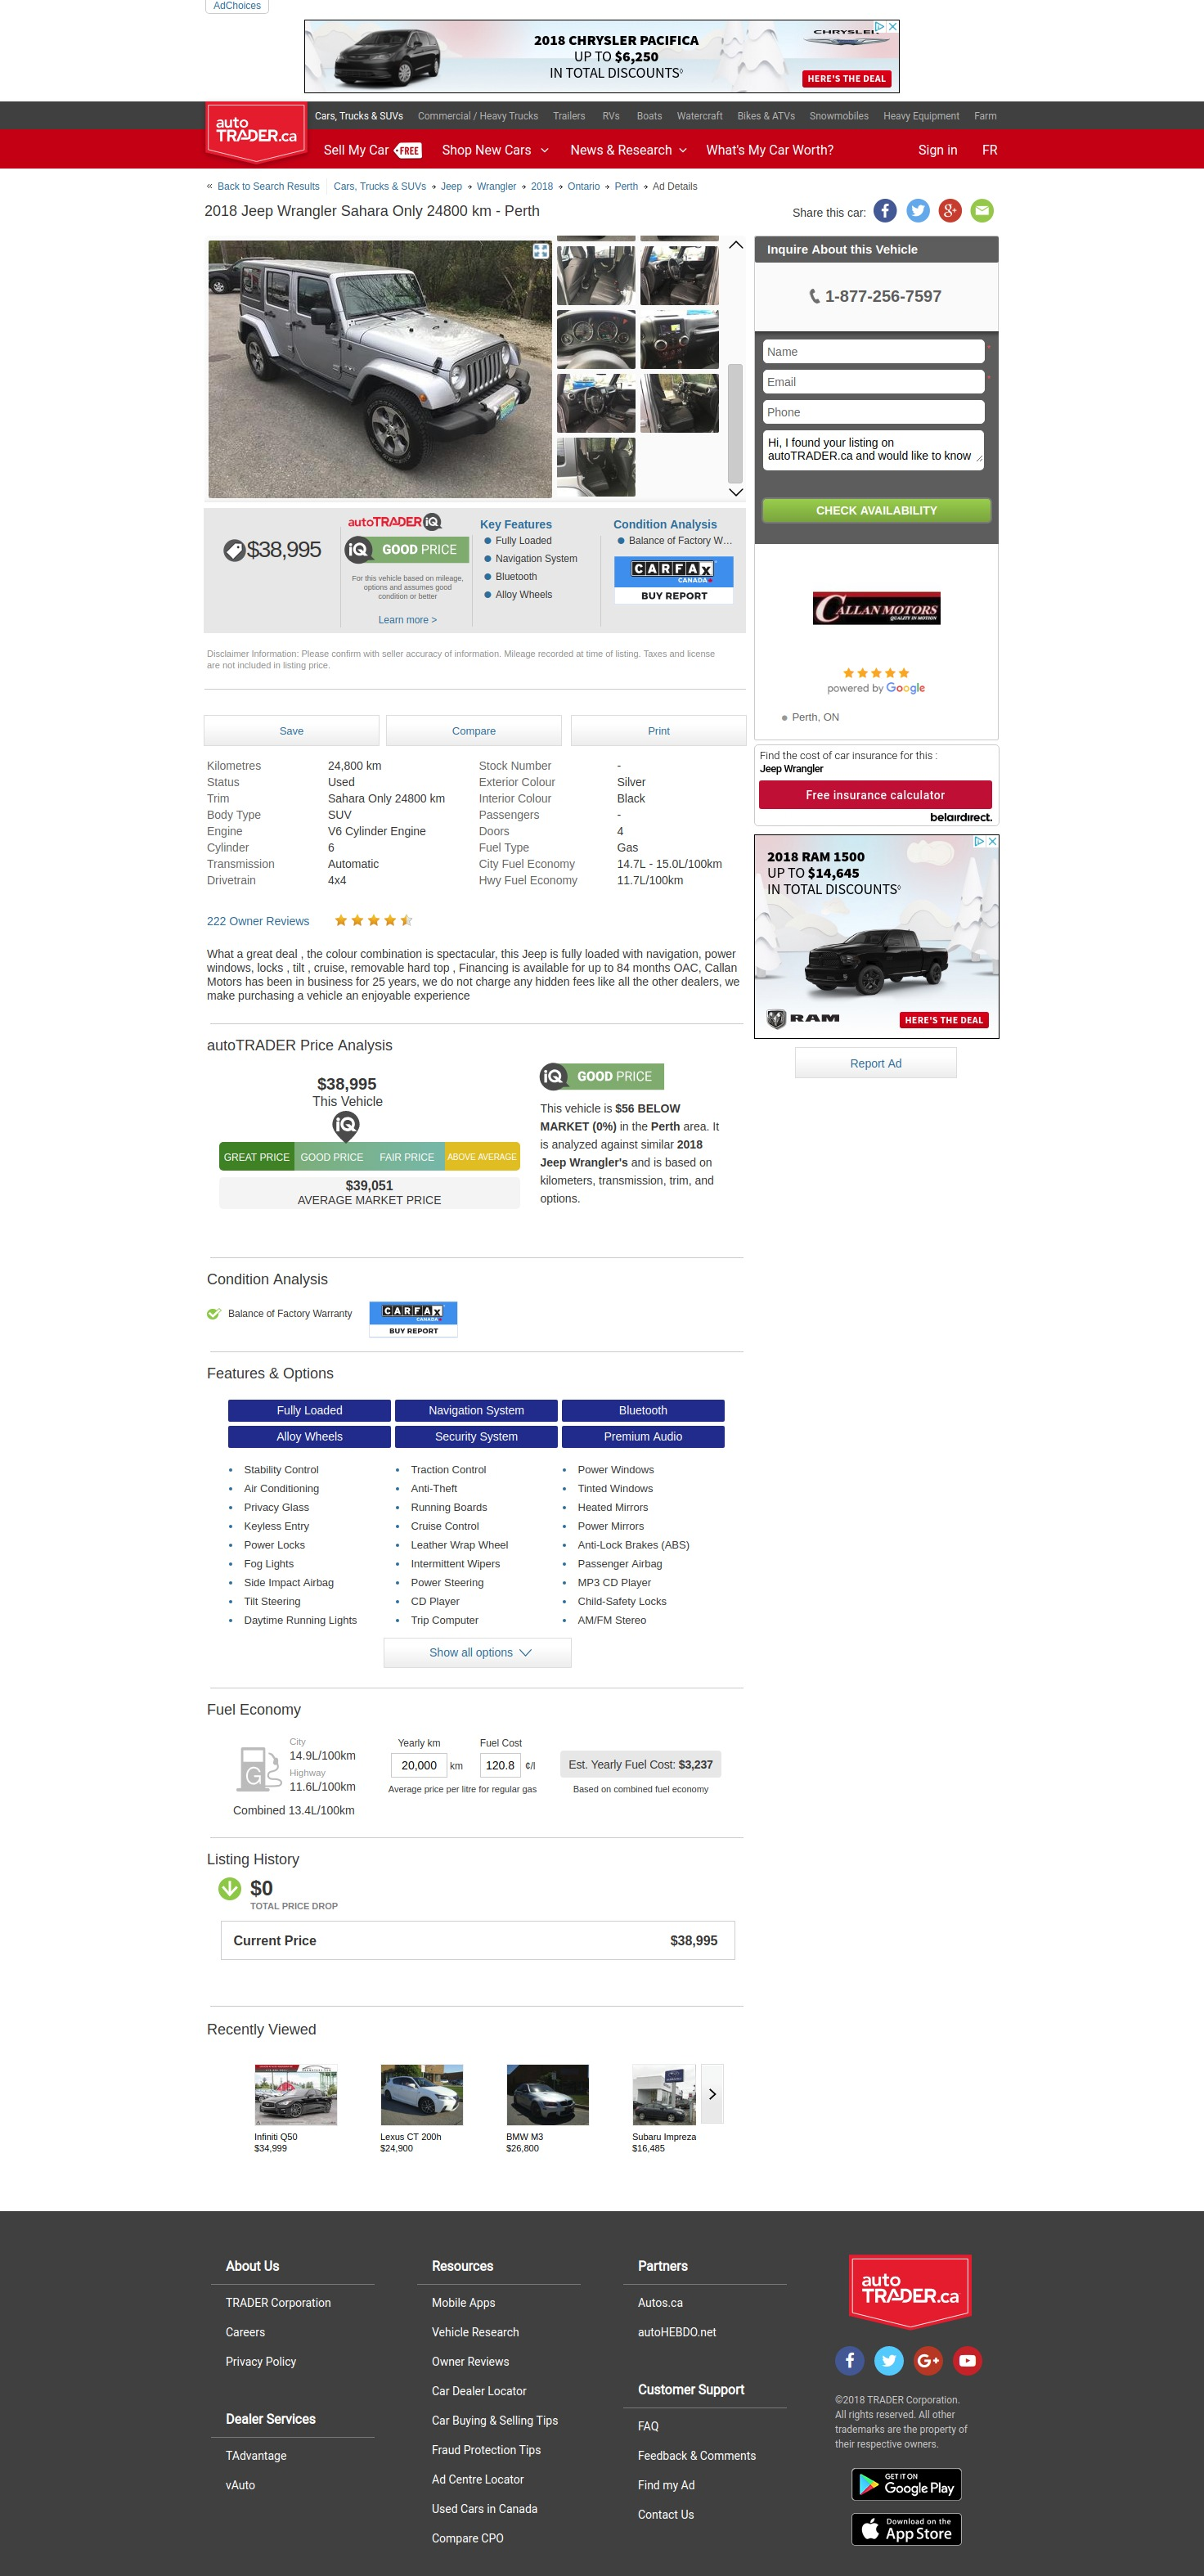car: (728, 488, 746, 499)
